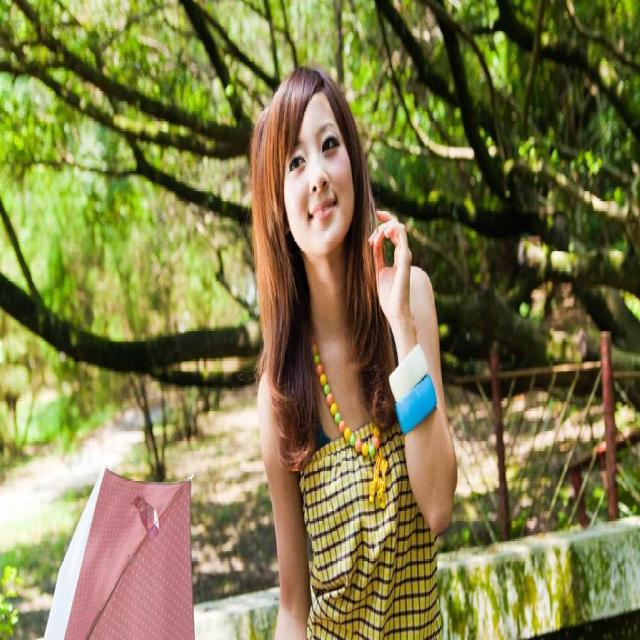Face: (275, 78, 363, 260)
